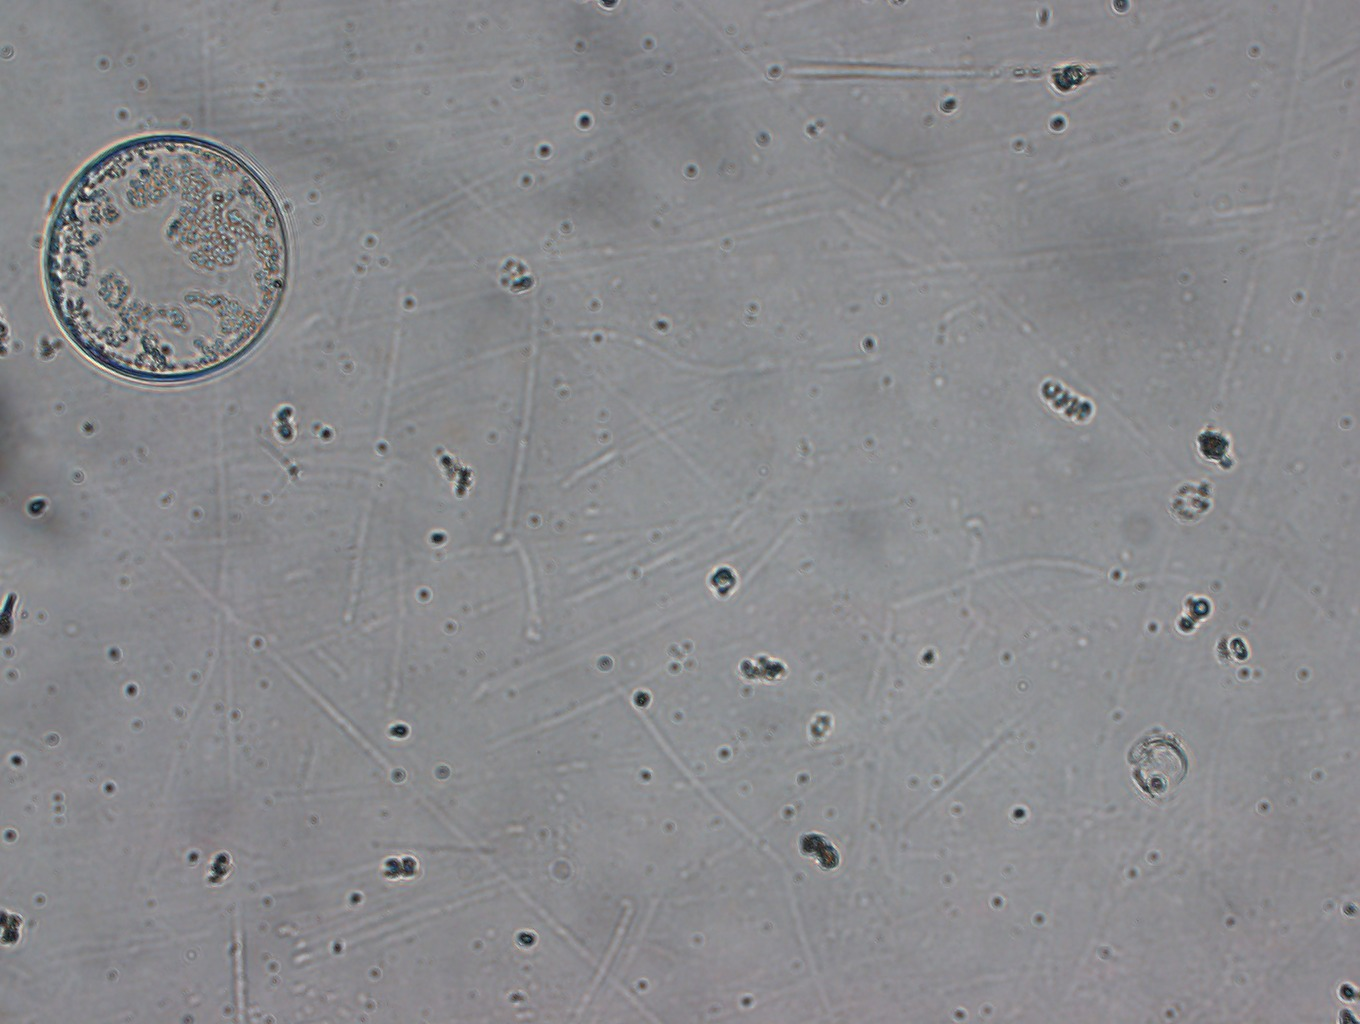coscinodiscus: (40, 132, 292, 390)
